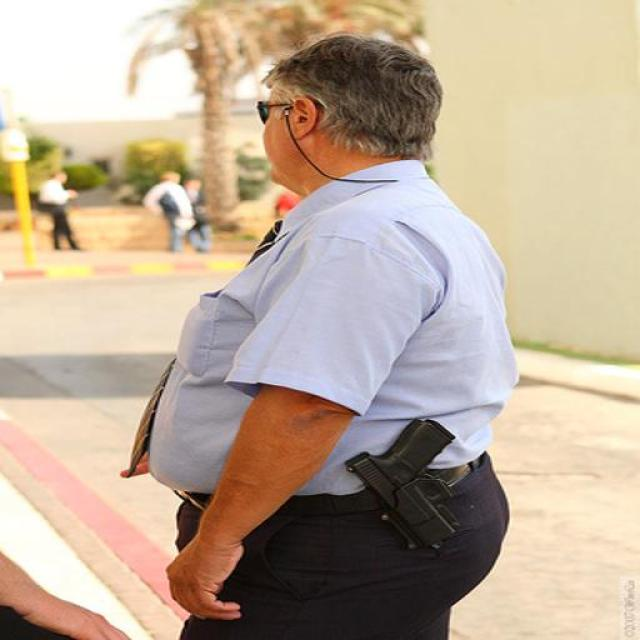pistol: (338, 416, 463, 554)
